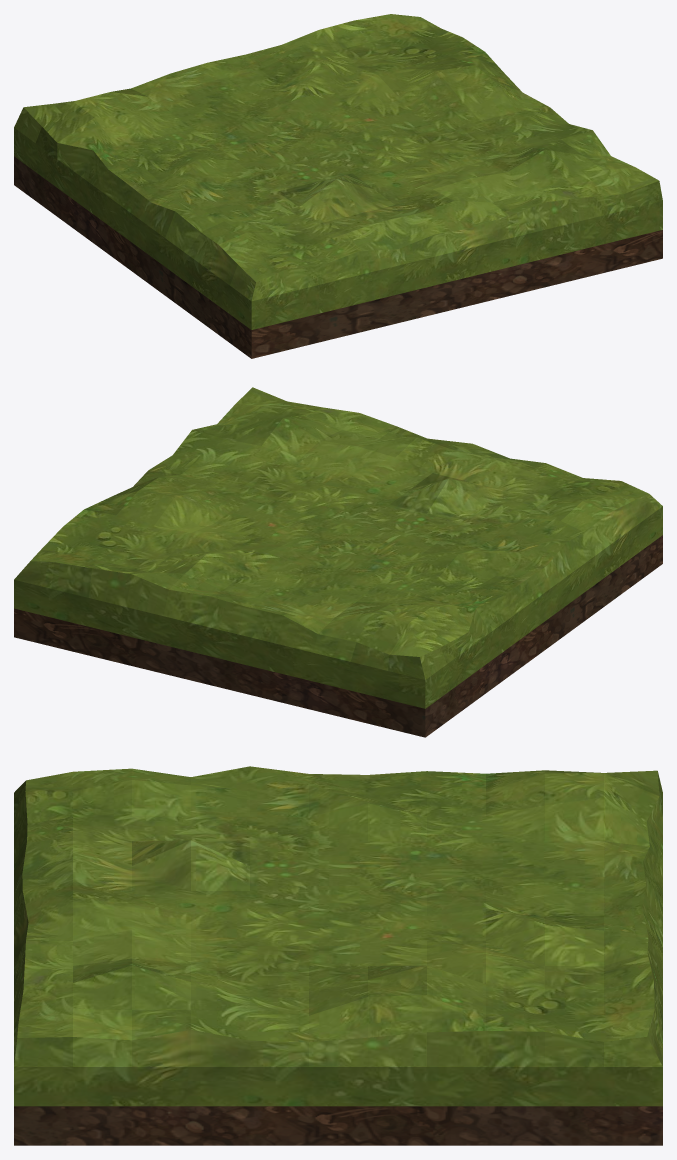
The model's file is CCUStilesGRASS.fbx.
3 views of the same model, one above another, from view 1: azimuth 30°, elevation 25°; view 2: azimuth 150°, elevation 25°; view 3: azimuth 270°, elevation 25° (orthographic). The views are drawn at different scales.
Visible parts, largest first — view 1: Grass; view 2: Grass; view 3: Grass.
Part boxes in pixels (<box>): Grass: <box>14,14,662,358</box>; Grass: <box>14,387,662,737</box>; Grass: <box>14,766,662,1145</box>.
Bounding box in the file's own units: 325 × 72.35 × 325.
2 materials, 2 textured.
